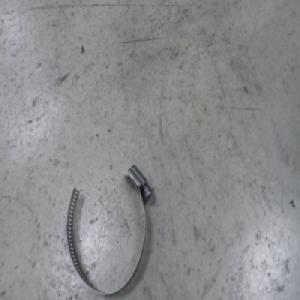AdjustableClamp: (67, 162, 154, 294)
